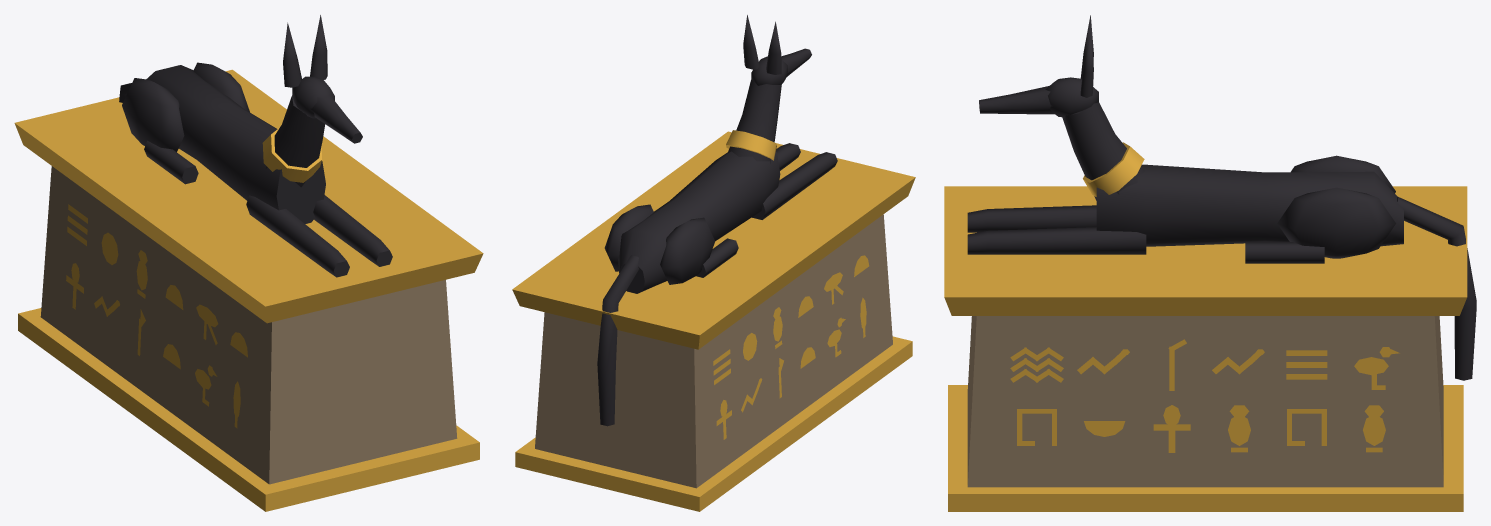
File: statue_anubis.glb
3 renders of one model, left to right at view 1: azimuth 30°, elevation 25°; view 2: azimuth 150°, elevation 25°; view 3: azimuth 270°, elevation 25°, orthographic. The views are drawn at different scales.
Parts seen in each view (by area): view 1: statue_anubis; view 2: statue_anubis; view 3: statue_anubis.
Part boxes in pixels (x1,y1,x2,y2): statue_anubis: (14,15,483,511); statue_anubis: (512,15,915,511); statue_anubis: (944,15,1476,511).
Bounding box in the file's own units: 1.65 × 3.03 × 3.36.
